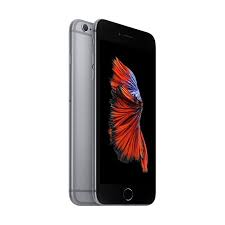iphone: (91, 16, 159, 207)
iphone6: (91, 15, 159, 206)
